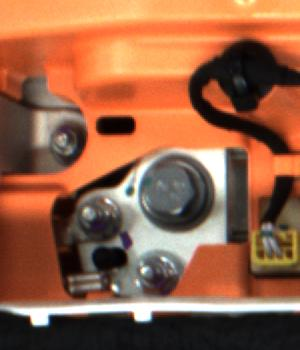nut_b: (132, 151, 228, 238)
